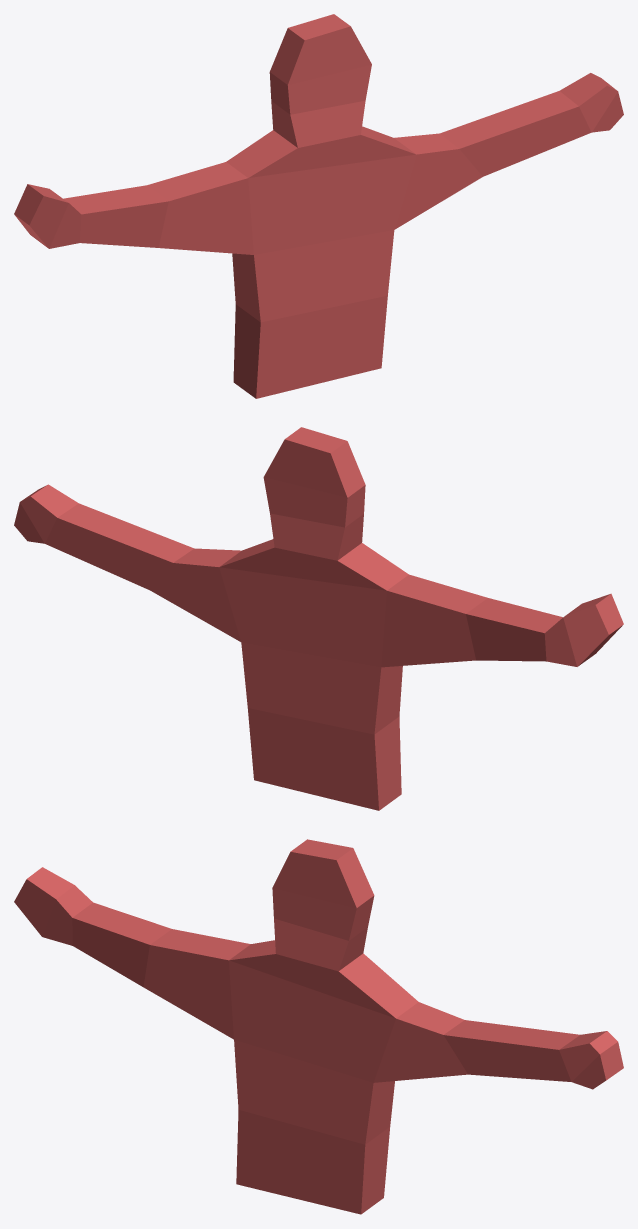
The model's file is SM_GodRed.fbx.
3 views of the same model, one above another, from view 1: azimuth 30°, elevation 25°; view 2: azimuth 150°, elevation 25°; view 3: azimuth 330°, elevation 25° (orthographic).
Visible parts, largest first — view 1: SM_GodRed; view 2: SM_GodRed; view 3: SM_GodRed.
Part boxes in pixels (x1=…): SM_GodRed: x1=14, y1=14, x2=623, y2=398; SM_GodRed: x1=14, y1=427, x2=623, y2=810; SM_GodRed: x1=14, y1=839, x2=623, y2=1214.
Size of the model in its own units: 785 by 437 by 62.49.
